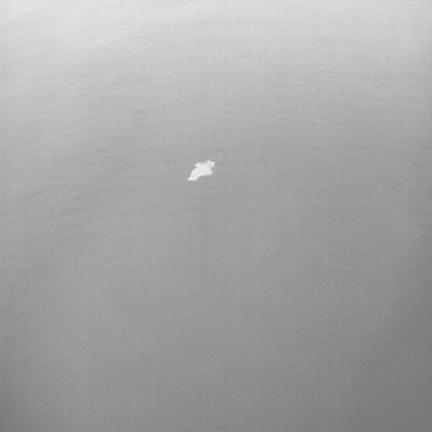flukeprints: (188, 160, 215, 181)
